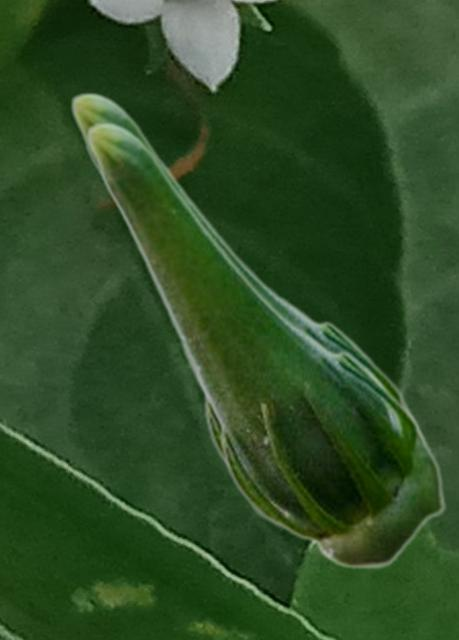okra: (85, 121, 445, 569), (69, 91, 428, 469)
